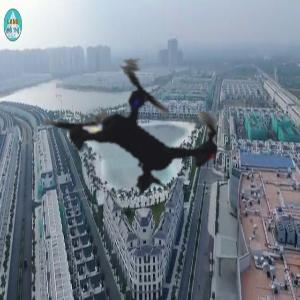drone: (12, 1, 272, 261)
